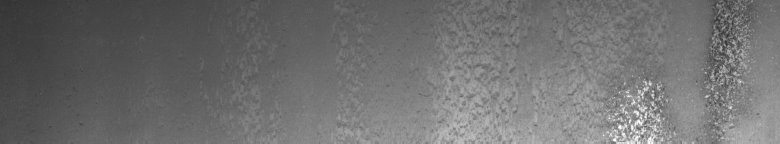hc: (613, 4, 741, 135)
